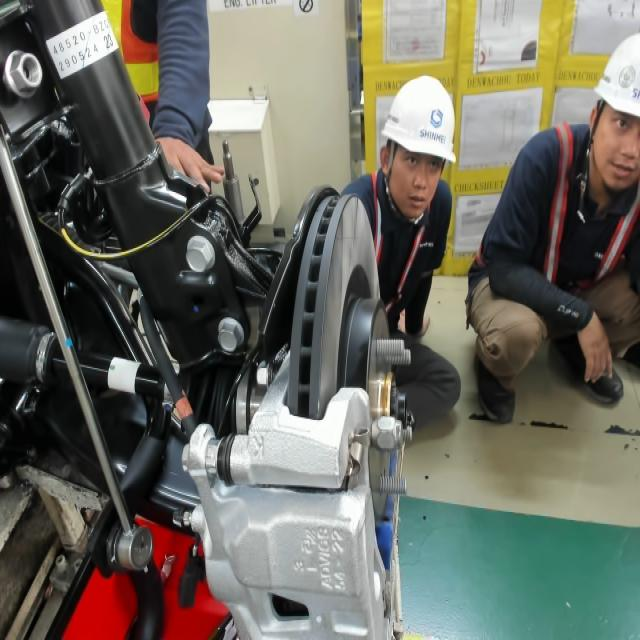Absorber LH-23: (101, 30, 118, 50)
Disc-HT: (338, 259, 397, 465)
Drive Shaft-PT: (105, 350, 144, 396)
